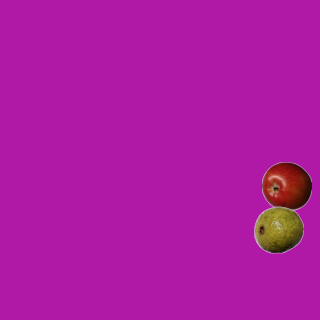Apple Braeburn: (261, 161, 311, 211)
Guava: (253, 204, 303, 254)
